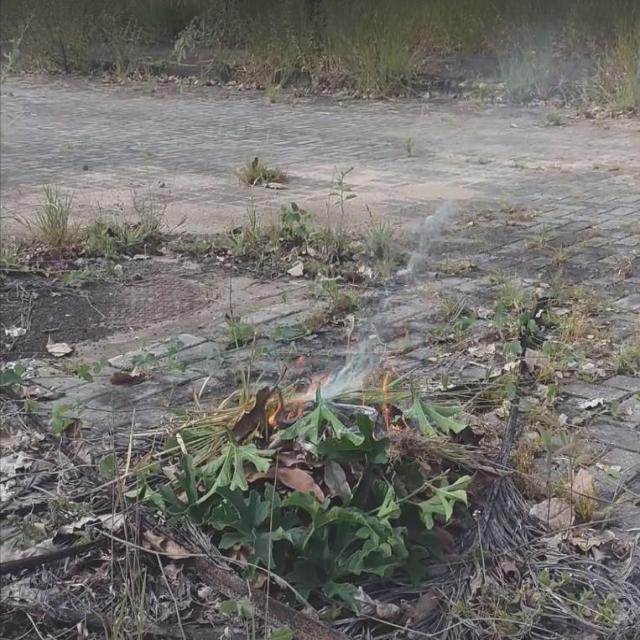Fire: (268, 372, 326, 426)
Smoke: (329, 324, 386, 399), (404, 207, 450, 280)
